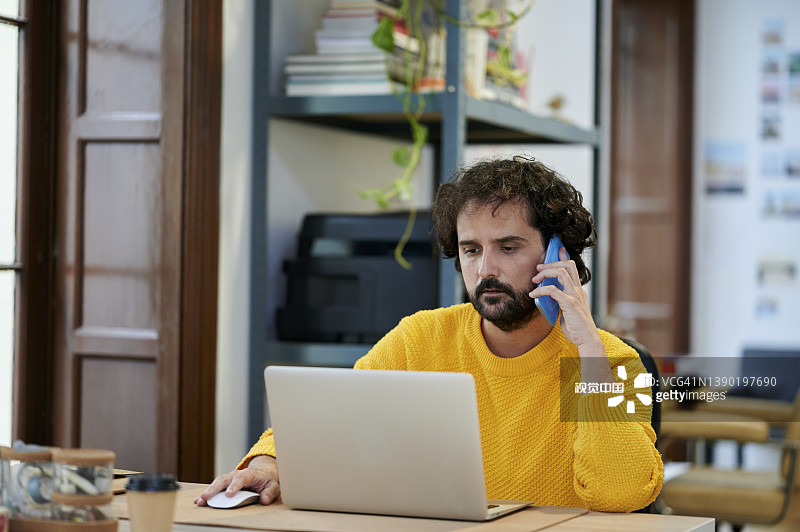calling: (516, 237, 620, 352)
no-phone: (184, 445, 289, 512)
